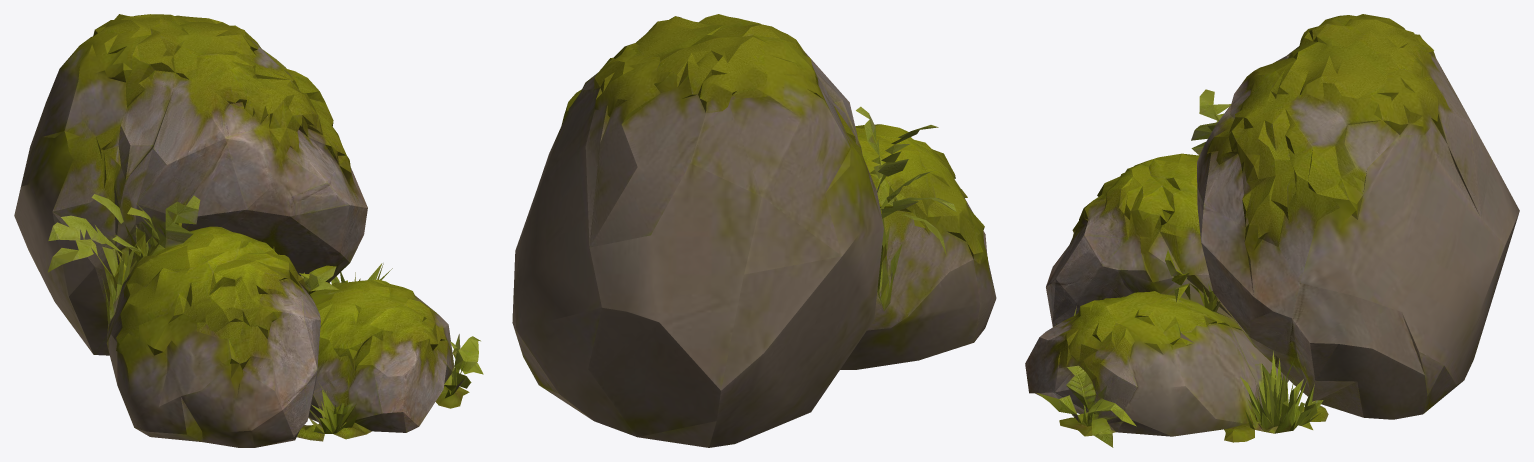
File: PRP-001.glb
3 renders of one model, left to right at view 1: azimuth 30°, elevation 25°; view 2: azimuth 150°, elevation 25°; view 3: azimuth 270°, elevation 25°, orthographic. The views are drawn at different scales.
Visible parts, largest first — view 1: PRP-001; view 2: PRP-001; view 3: PRP-001.
Part boxes in pixels (box(x1,y1,x2,y2)): PRP-001: box(14, 14, 483, 447); PRP-001: box(512, 14, 996, 447); PRP-001: box(1025, 14, 1519, 447).
Bounding box in the file's own units: 1.68 × 1.4 × 1.96.
Materials: 1 (1 with a texture image).
